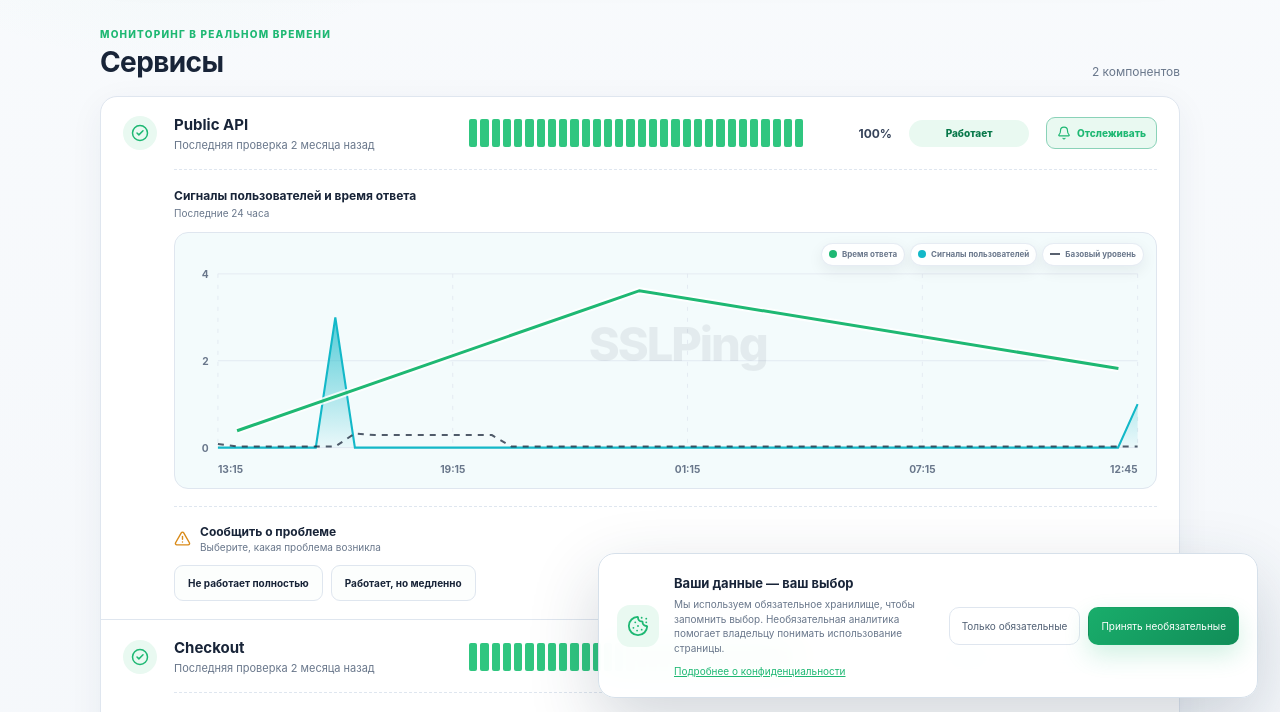
PublicStatusPage › renders public interface text and metadata in the page language
(page scrolled)
Expected: the text "Работает" is shown, 909,120 -> 1029,147
Focus the picture named "Сигналы пользователей и время ответа" at (666, 361), box 175,233 -> 1156,488
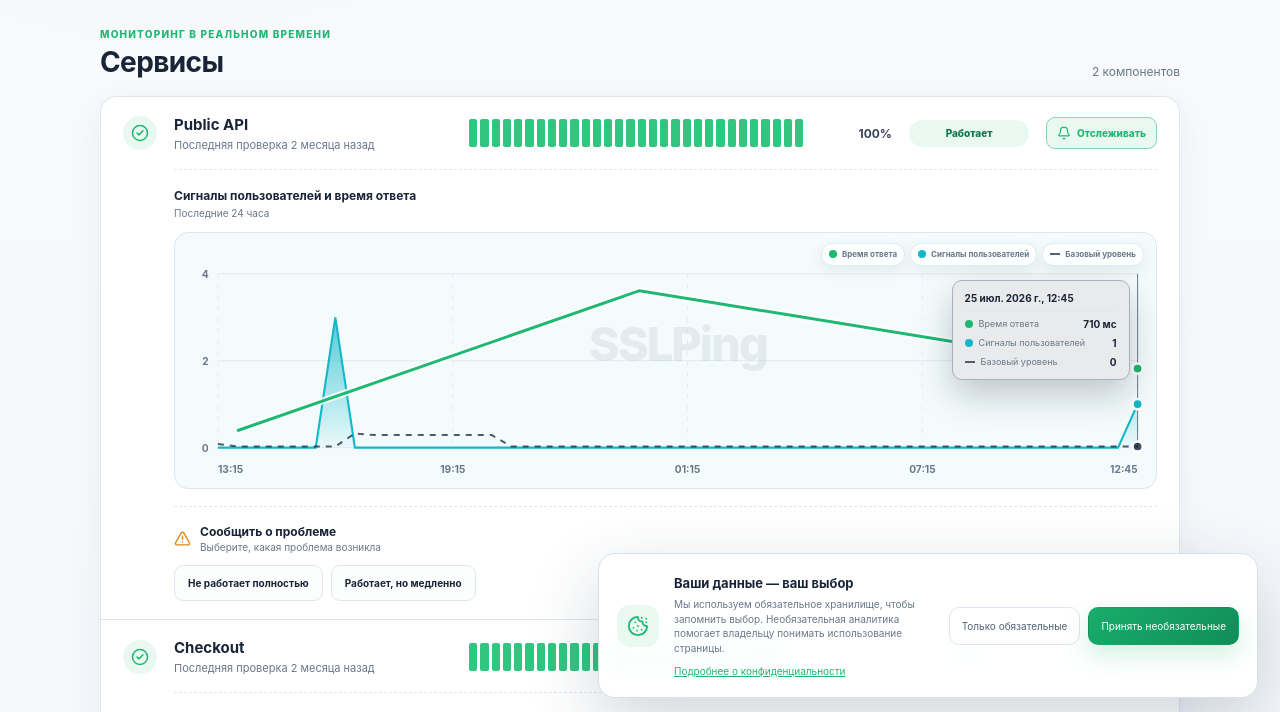
Expected: the text "710 мс" is shown, 1083,318 -> 1117,330
